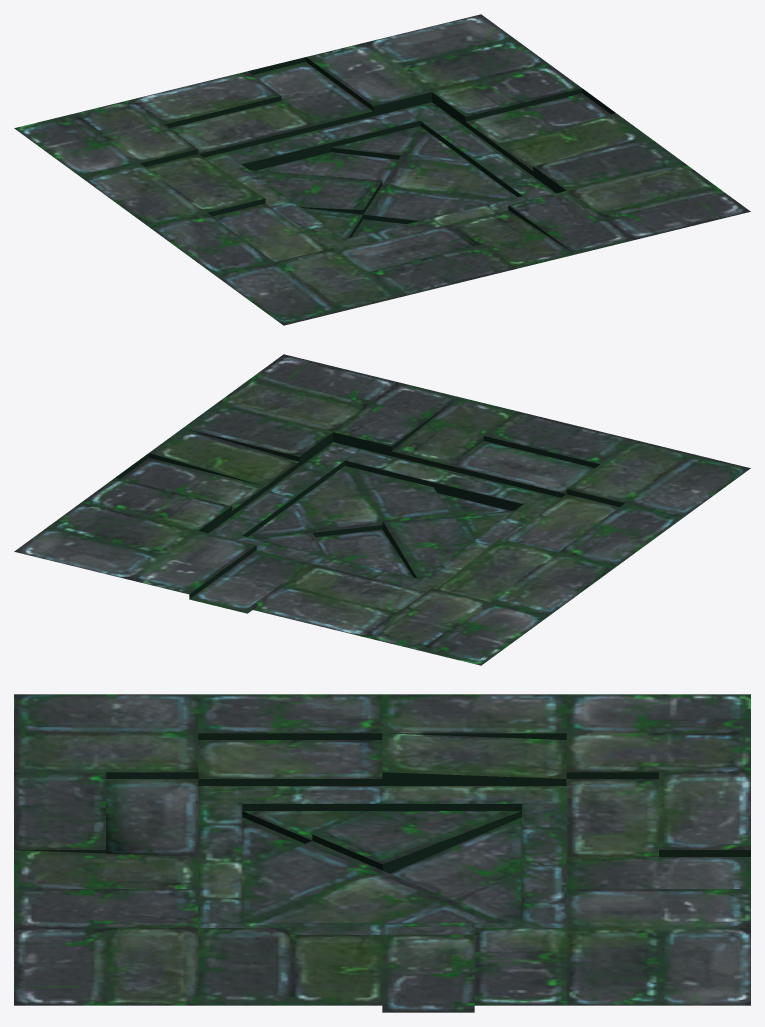
Rendered from stemple_floor_blank_01_d.fbx.
3 renders of one model, top to bottom at view 1: azimuth 30°, elevation 25°; view 2: azimuth 150°, elevation 25°; view 3: azimuth 270°, elevation 25°, orthographic. The views are drawn at different scales.
Parts seen in each view (by area): view 1: stemple_floor_blank_01_d-0; view 2: stemple_floor_blank_01_d-0; view 3: stemple_floor_blank_01_d-0.
Part boxes in pixels (x1=…): stemple_floor_blank_01_d-0: x1=14, y1=14, x2=750, y2=325; stemple_floor_blank_01_d-0: x1=14, y1=354, x2=750, y2=665; stemple_floor_blank_01_d-0: x1=14, y1=694, x2=750, y2=1012.
Size of the model in its own units: 4 by 0.1605 by 4.
